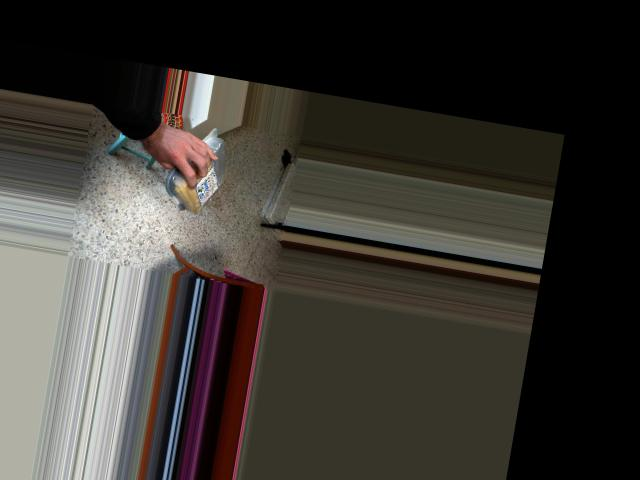cheese: (172, 129, 227, 224)
